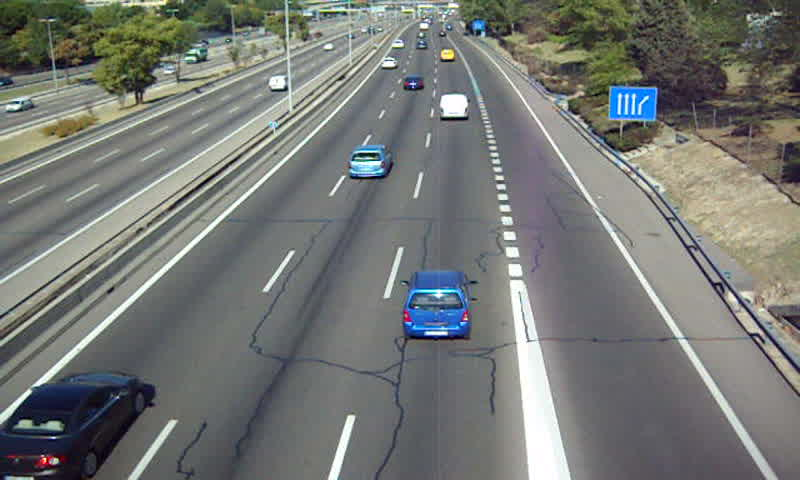car: (1, 372, 140, 479), (402, 271, 470, 340), (348, 145, 391, 179), (402, 76, 425, 91), (379, 57, 398, 72)
van: (439, 94, 470, 119)
